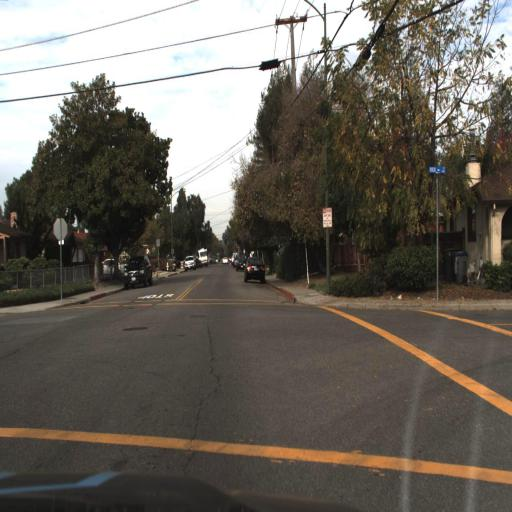car: (121, 253, 153, 291), (122, 253, 153, 288), (239, 253, 267, 287), (242, 252, 266, 282), (182, 251, 199, 272)
